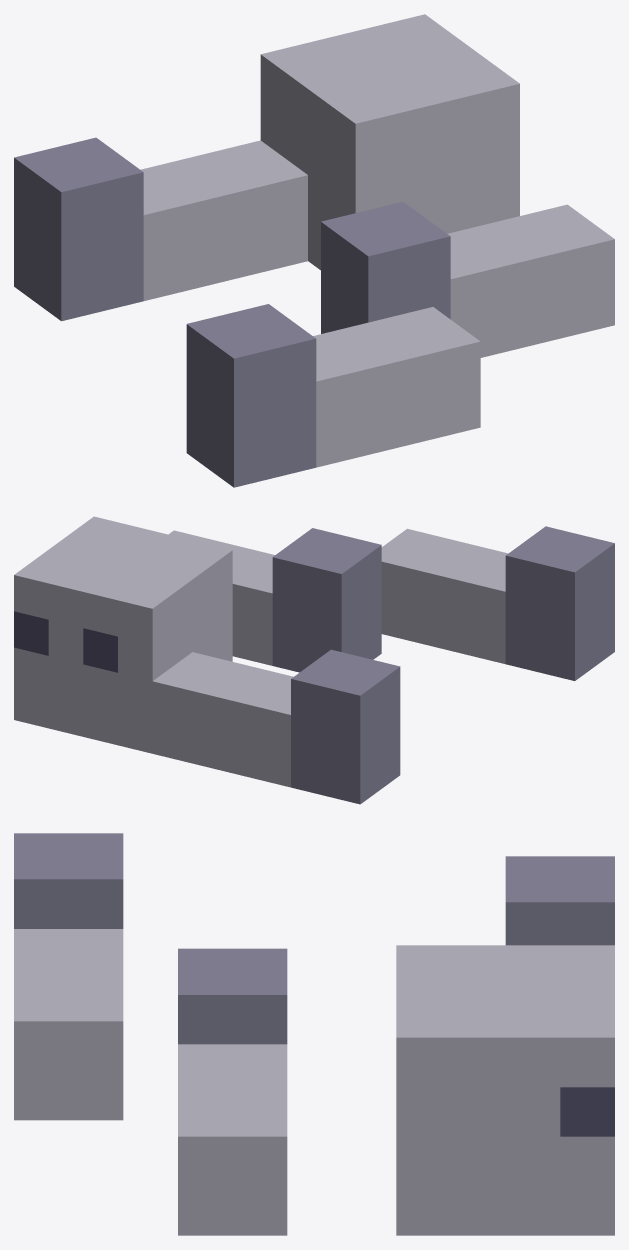
Rendered from bones_pile.obj.
The picture shows the model from 3 angles, top to bottom: view 1: azimuth 30°, elevation 25°; view 2: azimuth 150°, elevation 25°; view 3: azimuth 270°, elevation 25°; orthographic projection. The views are drawn at different scales.
Visible parts, largest first — view 1: bones_pile; view 2: bones_pile; view 3: bones_pile.
Boxes of the visible parts, <box> form: bones_pile: <box>14,14,614,487</box>; bones_pile: <box>14,516,614,804</box>; bones_pile: <box>14,833,614,1235</box>.
Size of the model in its own units: 0.6875 by 0.25 by 0.6875.
1 material, 1 textured.
